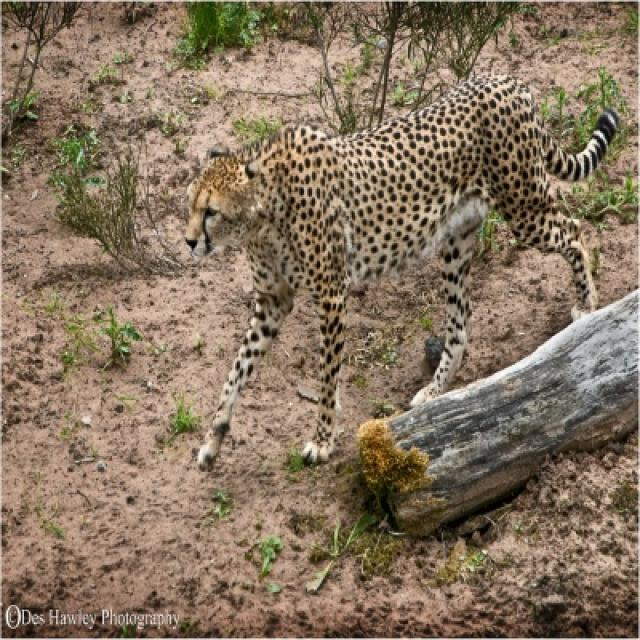Cheetah: (186, 77, 619, 472)
